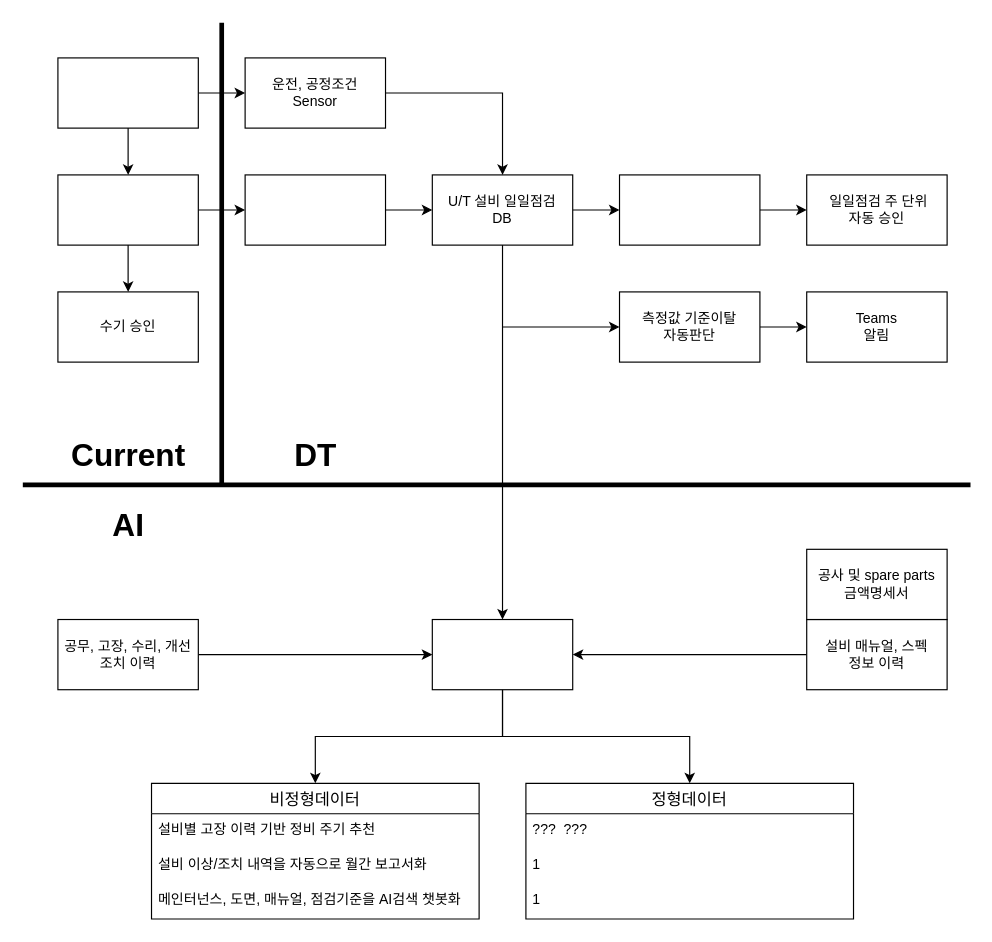
This 992x942 diagram has some shape labels left out. The shapes that lost their labels are listed below. From the top down, each one's centre as x and y in pixels, then its label:
(127,92): Utility 설비
(127,209): Patrol 일일점검 수기 작성
(315,209): Patrol 일일점검 App 입력
(689,209): 일일점검기록지 자동완성
(502,654): 통합 DB
